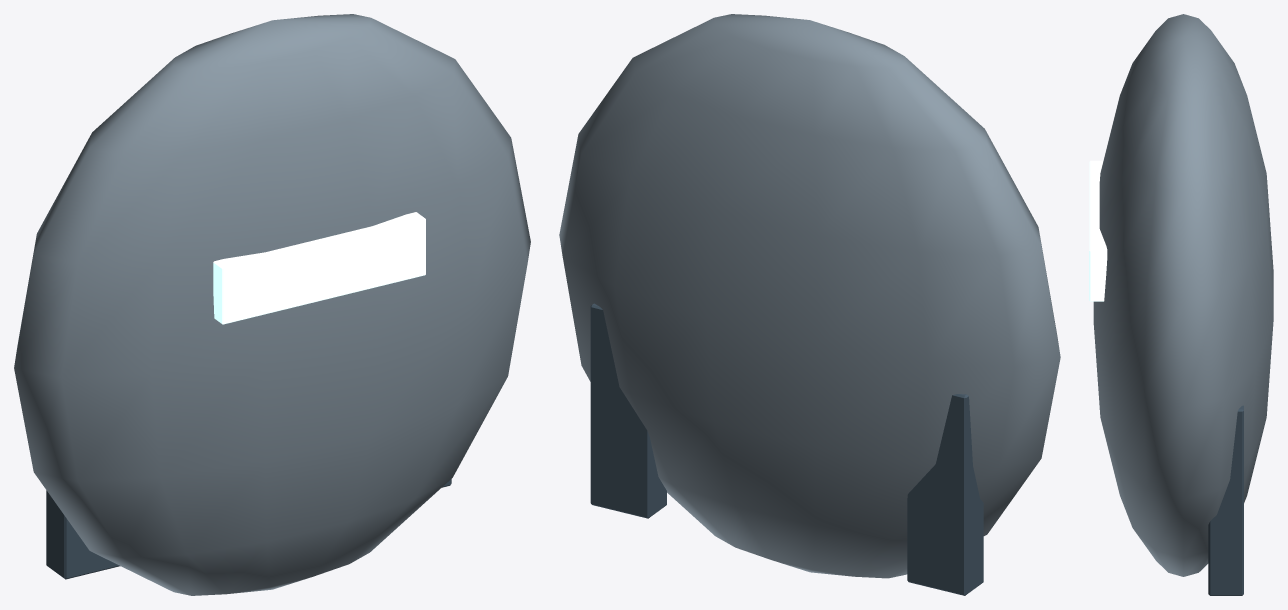
Rendered from armor.glb.
3 renders of one model, left to right at view 1: azimuth 30°, elevation 25°; view 2: azimuth 150°, elevation 25°; view 3: azimuth 270°, elevation 25°, orthographic. The views are drawn at different scales.
Parts seen in each view (by area): view 1: curved_armor_plate_1, armor_indicator_2, armor_strap_3; view 2: curved_armor_plate_1, armor_strap_3, armor_strap_4; view 3: curved_armor_plate_1, armor_strap_4, armor_indicator_2.
Part boxes in pixels (x1=…): curved_armor_plate_1: x1=14, y1=14, x2=530, y2=595; armor_indicator_2: x1=213, y1=212, x2=425, y2=324; armor_strap_3: x1=46, y1=490, x2=120, y2=579; curved_armor_plate_1: x1=559, y1=14, x2=1060, y2=578; armor_strap_3: x1=907, y1=394, x2=983, y2=595; armor_strap_4: x1=590, y1=303, x2=666, y2=518; curved_armor_plate_1: x1=1093, y1=14, x2=1273, y2=576; armor_strap_4: x1=1208, y1=405, x2=1243, y2=595; armor_indicator_2: x1=1089, y1=160, x2=1107, y2=301.
Size of the model in its own units: 0.76 by 0.8 by 0.2592.
